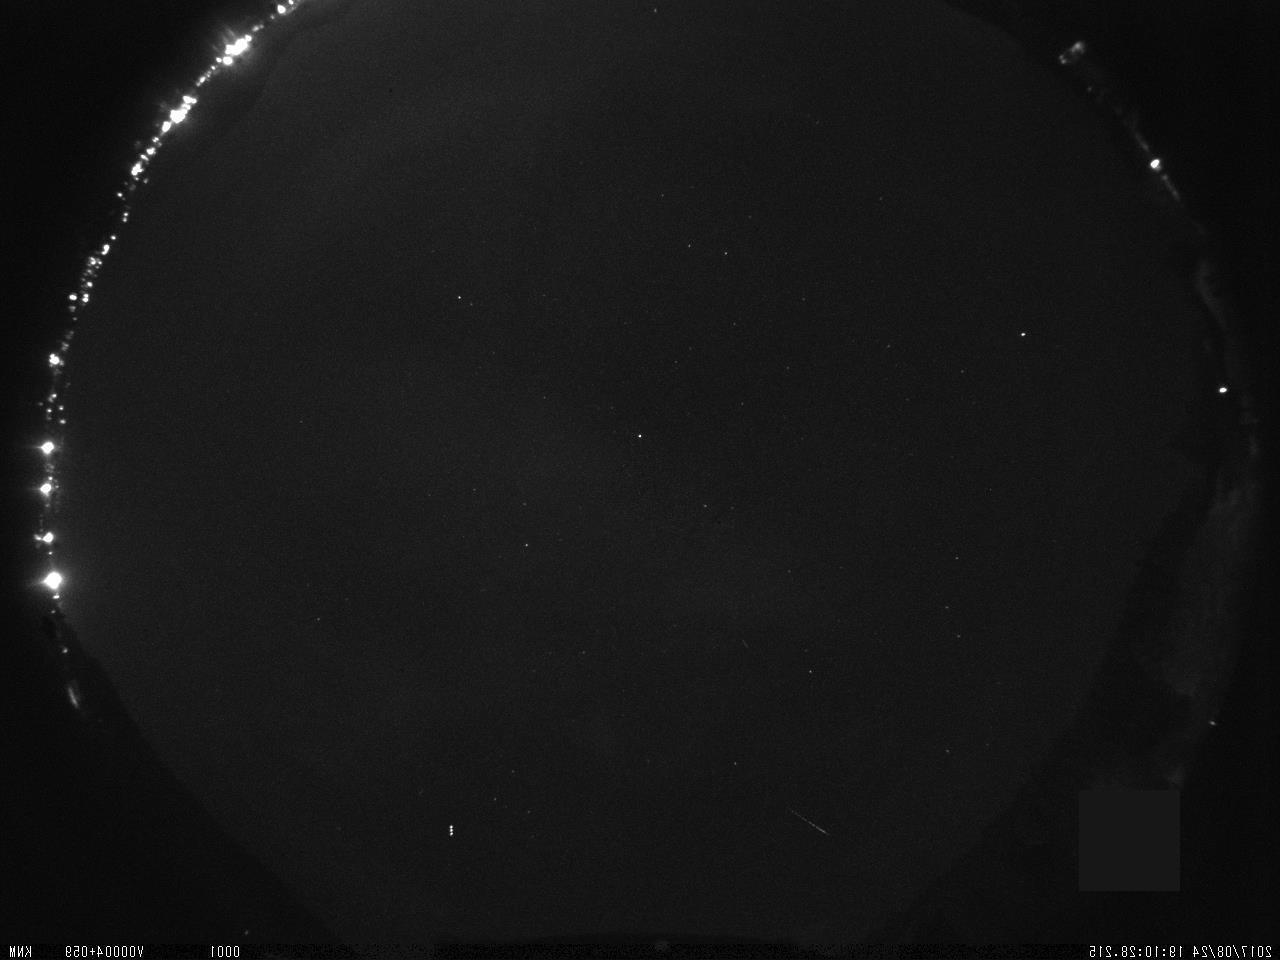meteor: (779, 805, 836, 843)
satelite: (441, 818, 461, 847)
